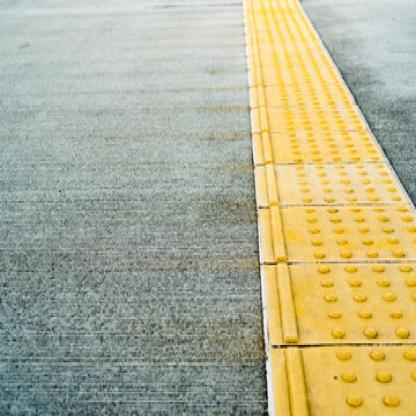podotacti: (205, 0, 416, 416)
